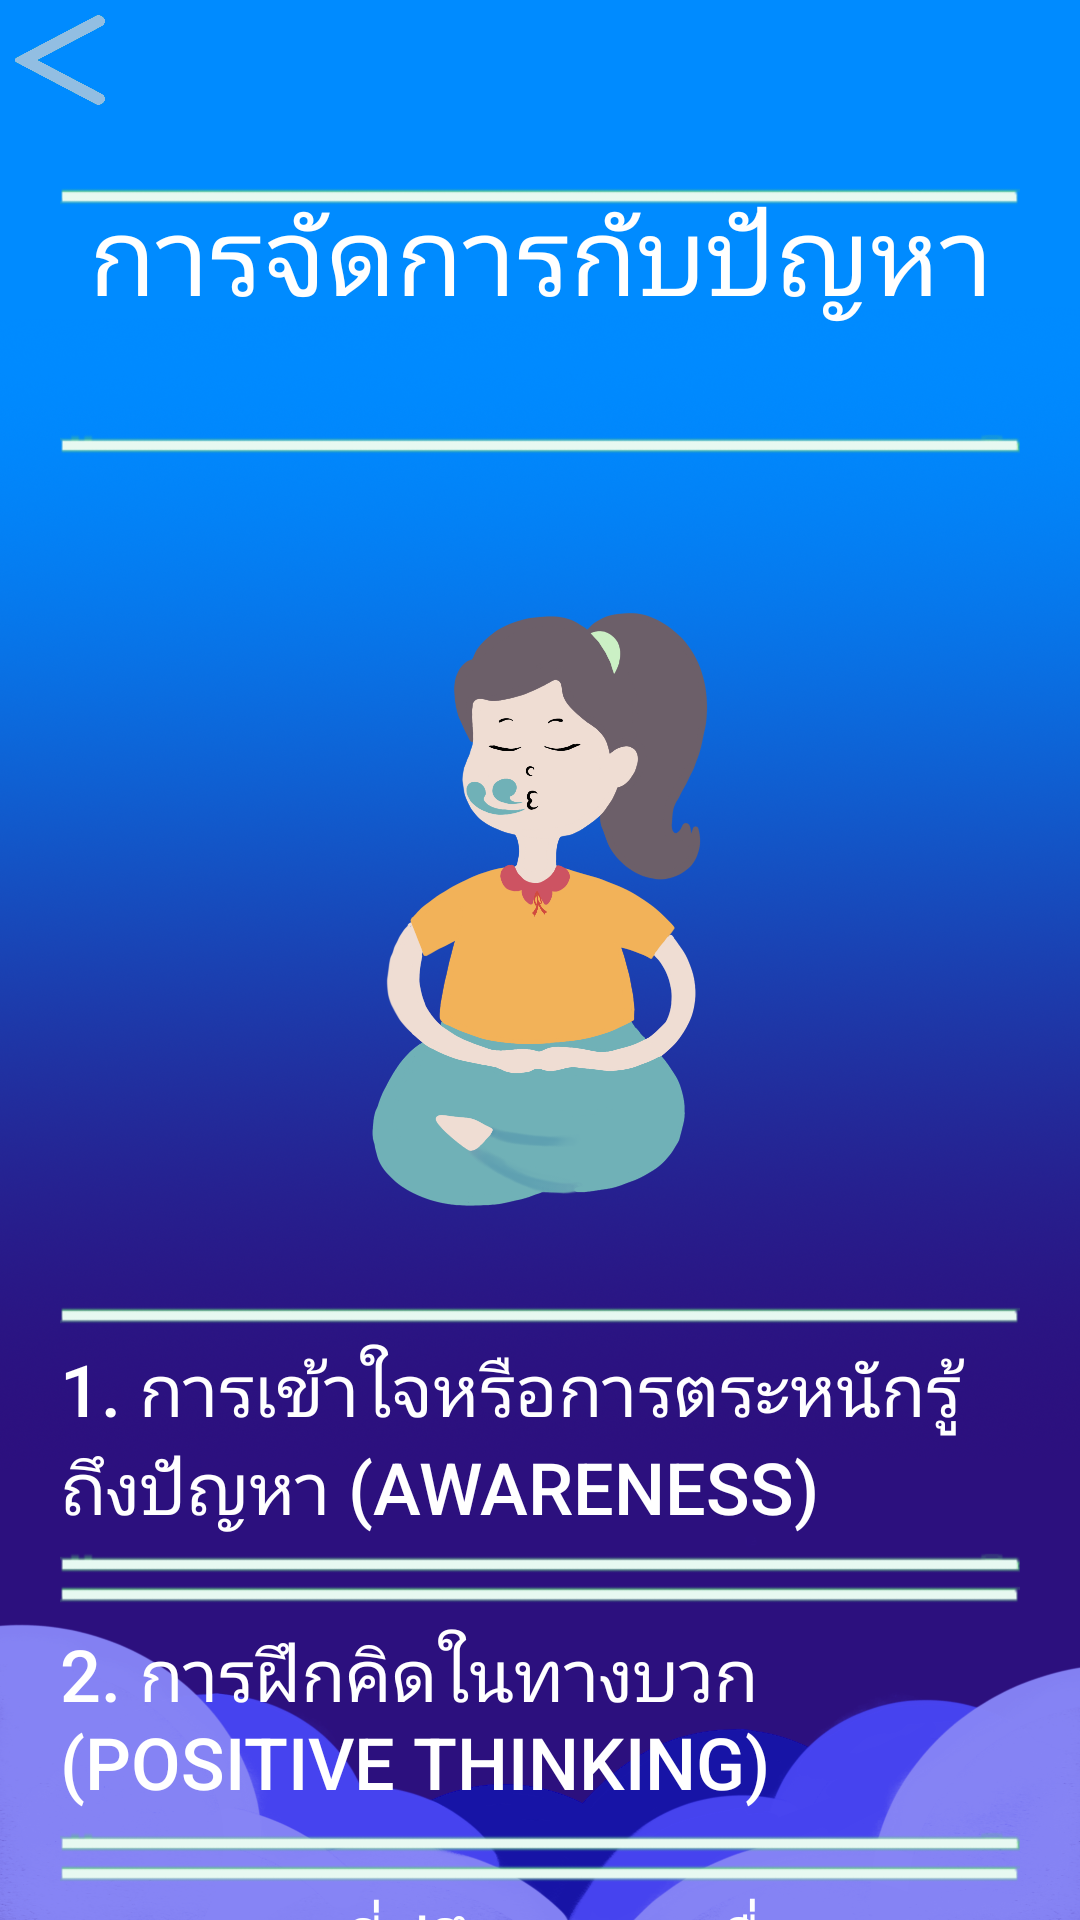

Icons on this 1080 × 1920 Android screen, each with the point to tap as (x,y):
backbut: (60,60)
